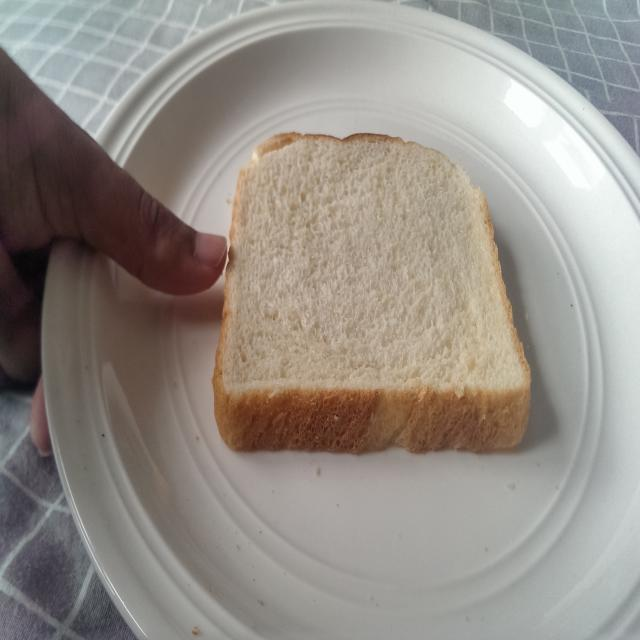Bread: (204, 126, 540, 470)
Finger: (124, 165, 230, 307)
